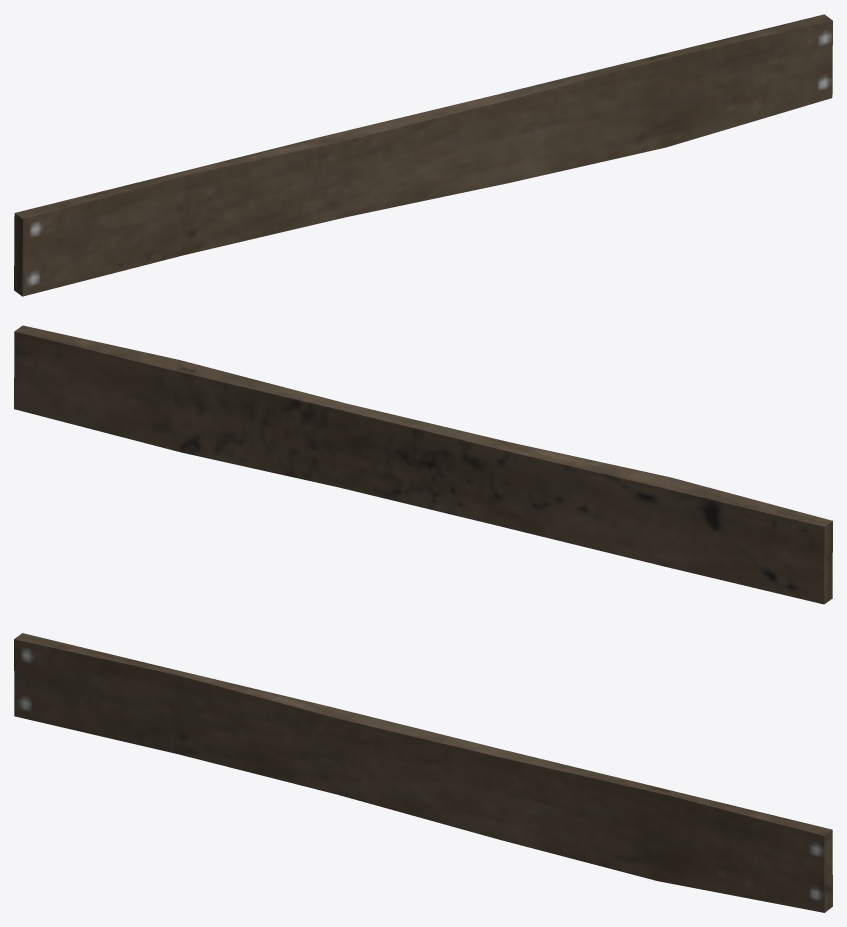
File: FenceNailPlank_Top_02.fbx
3 renders of one model, top to bottom at view 1: azimuth 30°, elevation 25°; view 2: azimuth 150°, elevation 25°; view 3: azimuth 330°, elevation 25°, orthographic.
Visible parts, largest first — view 1: nail_plank.003; view 2: nail_plank.003; view 3: nail_plank.003.
Part boxes in pixels (box(x1,y1,x2,y2)): nail_plank.003: box(14, 14, 832, 296); nail_plank.003: box(14, 325, 832, 604); nail_plank.003: box(14, 633, 832, 912).
Bounding box in the file's own units: 6.65 × 0.7089 × 0.1508.
